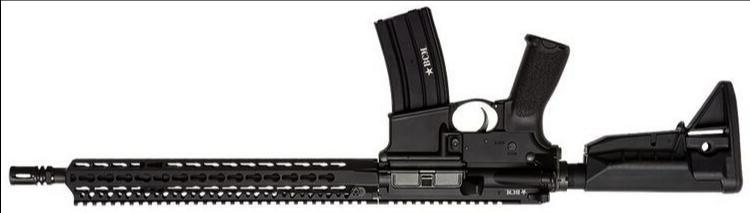gun: (7, 6, 743, 206)
